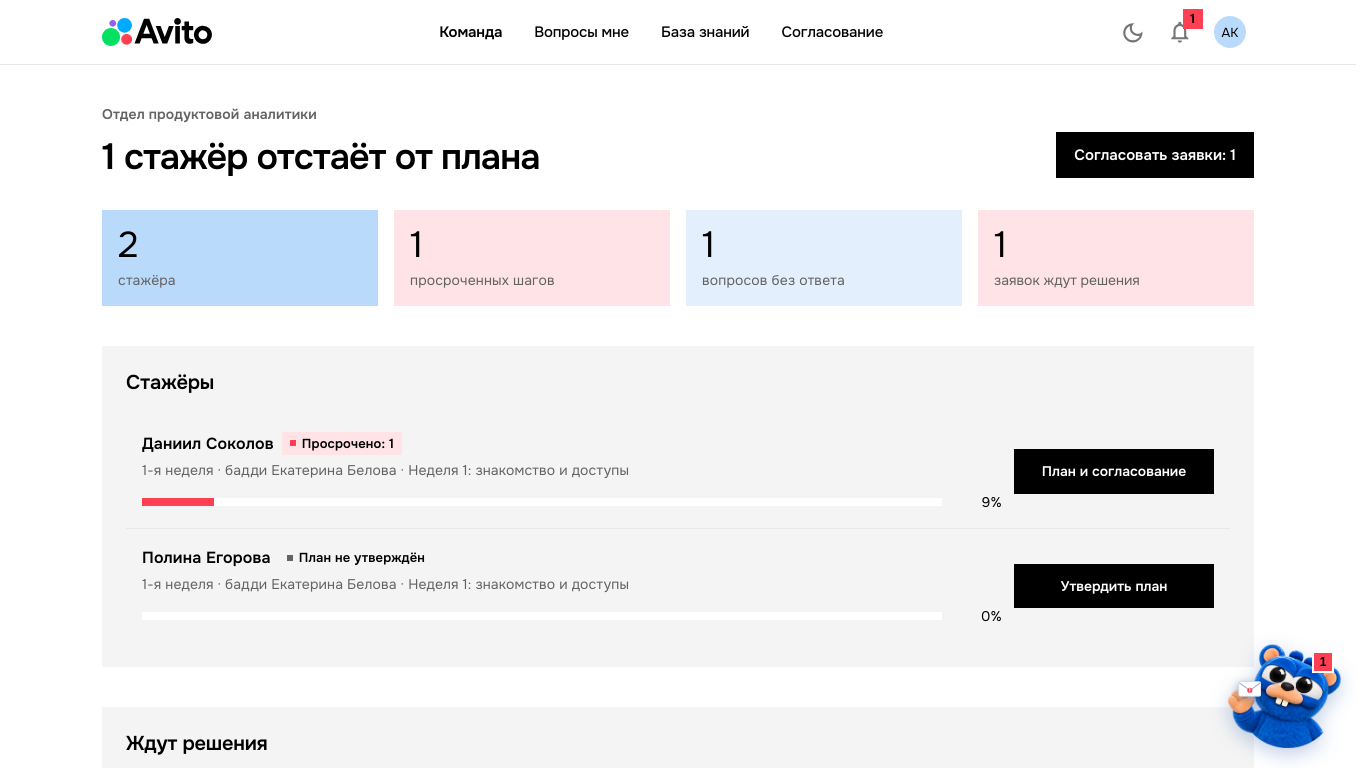
Test: настройки руководителя › только напоминания, «не беспокоить» и часы — без режима подсказок и видимости для бадди
Click the button with aria-label "Профиль и тестовые учётки" at (1230, 32), box [1206,12,1254,52]
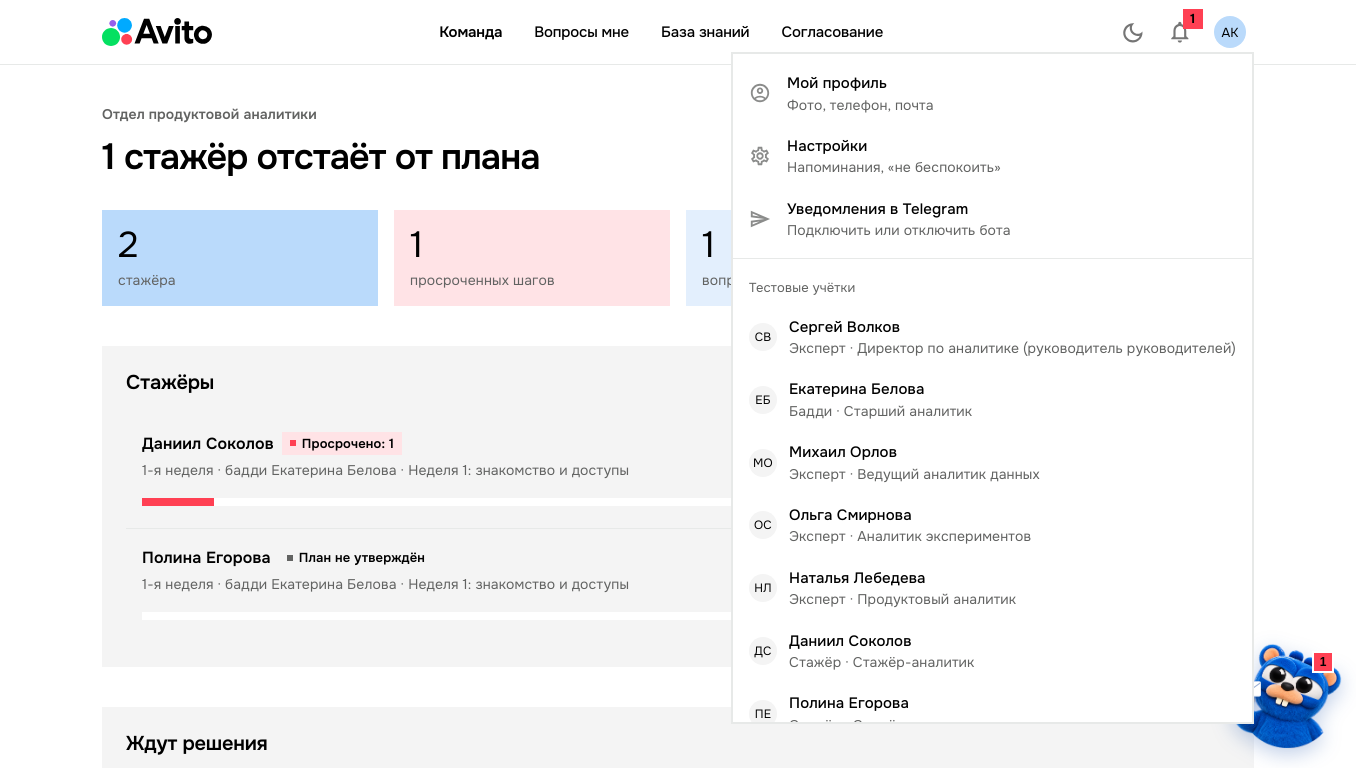
Click the menu item "Настройки Напоминания, «не беспокоить»" at (875, 156), box [749,136,1001,176]
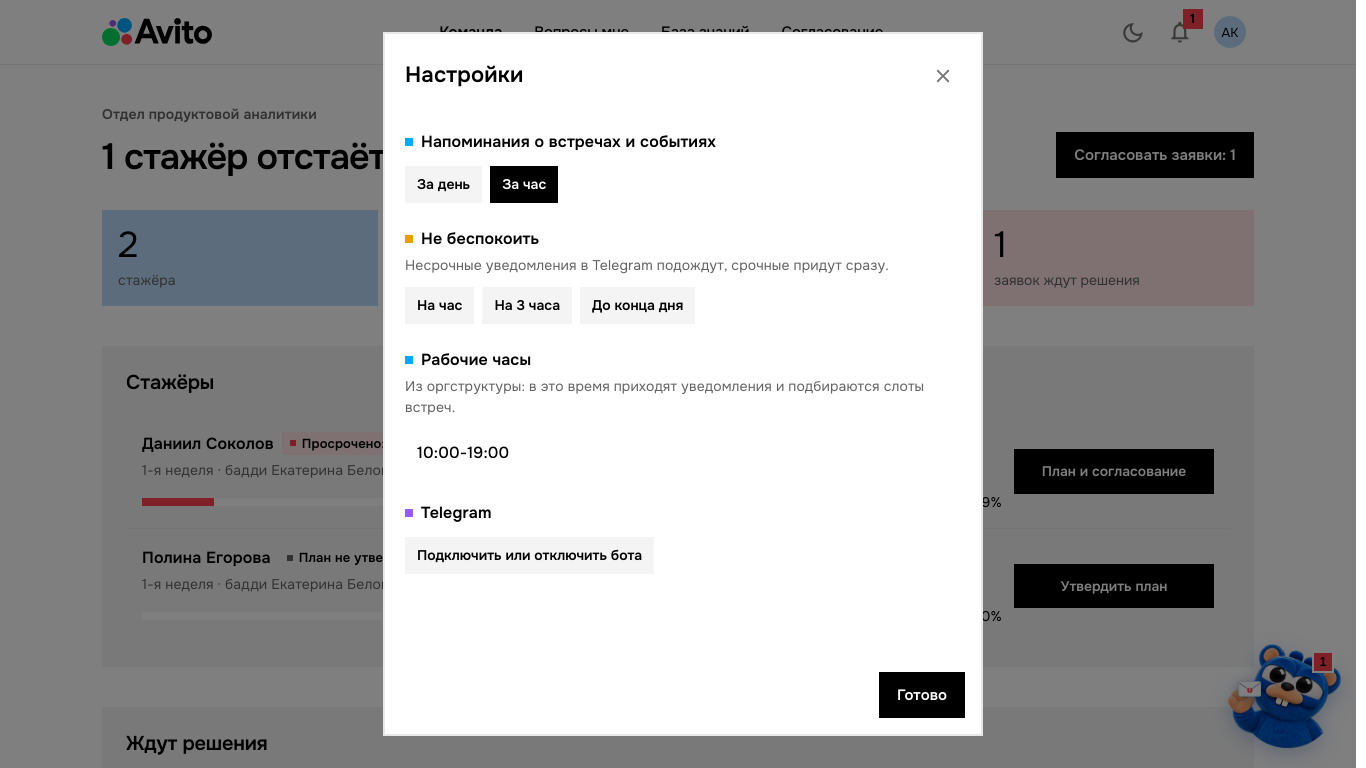
Result: the text "Рабочие часы" is shown at [421,348,531,372]
Result: the checkbox labelled "За час" is checked at [490,166,558,203]
